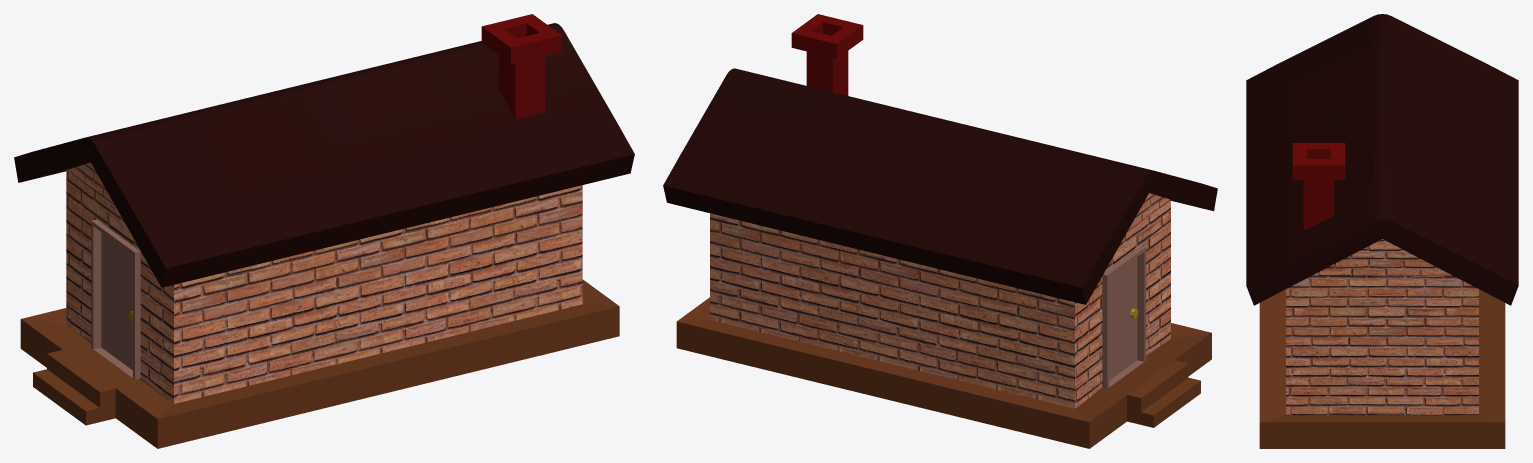
Rendered from House_1.glb.
3 views of the same model, side by side, from view 1: azimuth 30°, elevation 25°; view 2: azimuth 150°, elevation 25°; view 3: azimuth 270°, elevation 25° (orthographic). The views are drawn at different scales.
Visible parts, largest first — view 1: Cube-col, Cube.001-col, Cube.003-col, Cube.002-col; view 2: Cube-col, Cube.001-col, Cube.003-col, Cube.002-col; view 3: Cube.001-col, Cube-col, Cube.002-col.
Part boxes in pixels (x1=…): Cube-col: x1=20, y1=162, x2=619, y2=448; Cube.001-col: x1=14, y1=23, x2=634, y2=287; Cube.003-col: x1=91, y1=219, x2=140, y2=379; Cube.002-col: x1=481, y1=14, x2=561, y2=118; Cube-col: x1=676, y1=193, x2=1211, y2=448; Cube.001-col: x1=663, y1=68, x2=1217, y2=304; Cube.003-col: x1=1102, y1=246, x2=1146, y2=388; Cube.002-col: x1=791, y1=14, x2=863, y2=95; Cube.001-col: x1=1246, y1=14, x2=1518, y2=305; Cube-col: x1=1259, y1=239, x2=1505, y2=448; Cube.002-col: x1=1292, y1=143, x2=1345, y2=230.
Size of the model in its own units: 5.36 by 3.05 by 2.82.
Materials: 4 (4 with a texture image).
